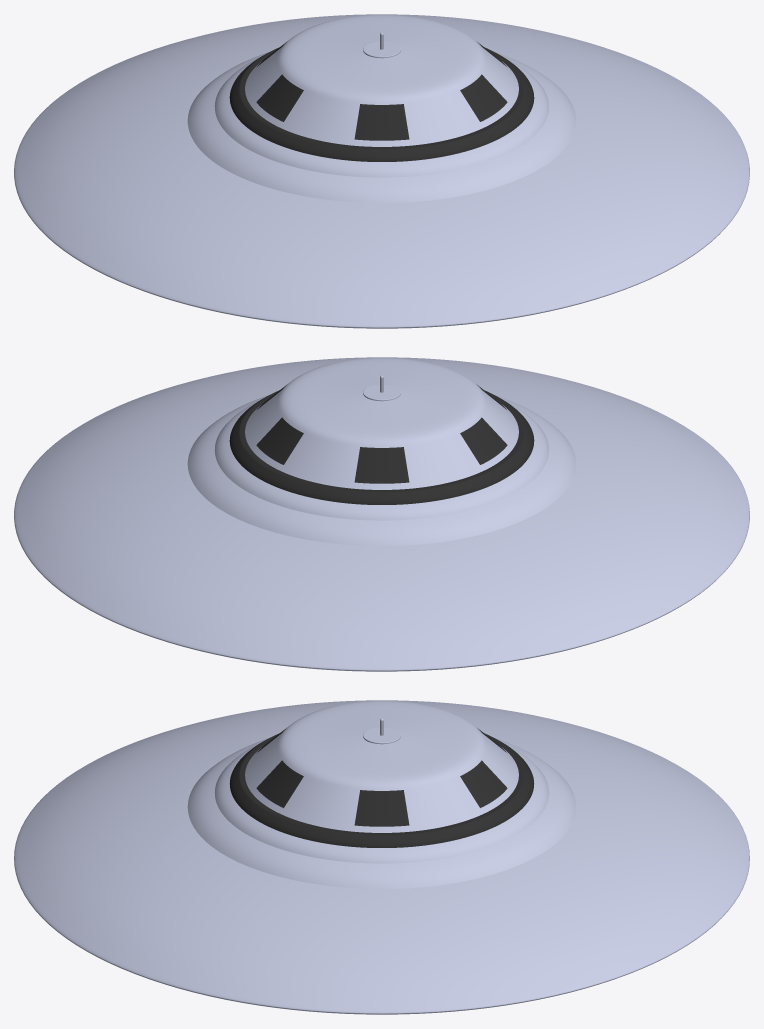
3 renders of one model, top to bottom at view 1: azimuth 30°, elevation 25°; view 2: azimuth 150°, elevation 25°; view 3: azimuth 270°, elevation 25°, orthographic.
Visible parts, largest first — view 1: Esfera_0, Cilindro.006_7, Cilindro.003_4, Cilindro.004_5, Cilindro.005_6; view 2: Esfera_0, Cilindro.006_7, Cilindro.003_4, Cilindro.004_5, Cilindro.005_6; view 3: Esfera_0, Cilindro.006_7, Cilindro.003_4, Cilindro.004_5, Cilindro.005_6.
Boxes of the visible parts, bbox=[...] form: Esfera_0: bbox=[14, 14, 749, 328]; Cilindro.006_7: bbox=[245, 14, 518, 146]; Cilindro.003_4: bbox=[187, 52, 576, 202]; Cilindro.004_5: bbox=[214, 57, 549, 177]; Cilindro.005_6: bbox=[229, 47, 534, 161]; Esfera_0: bbox=[14, 357, 749, 671]; Cilindro.006_7: bbox=[245, 357, 518, 489]; Cilindro.003_4: bbox=[187, 395, 576, 545]; Cilindro.004_5: bbox=[214, 400, 549, 520]; Cilindro.005_6: bbox=[229, 390, 534, 504]; Esfera_0: bbox=[14, 700, 749, 1014]; Cilindro.006_7: bbox=[245, 700, 518, 832]; Cilindro.003_4: bbox=[187, 738, 576, 888]; Cilindro.004_5: bbox=[215, 743, 548, 863]; Cilindro.005_6: bbox=[229, 733, 534, 847].
Size of the model in its own units: 4.64 by 1.5 by 4.64.
